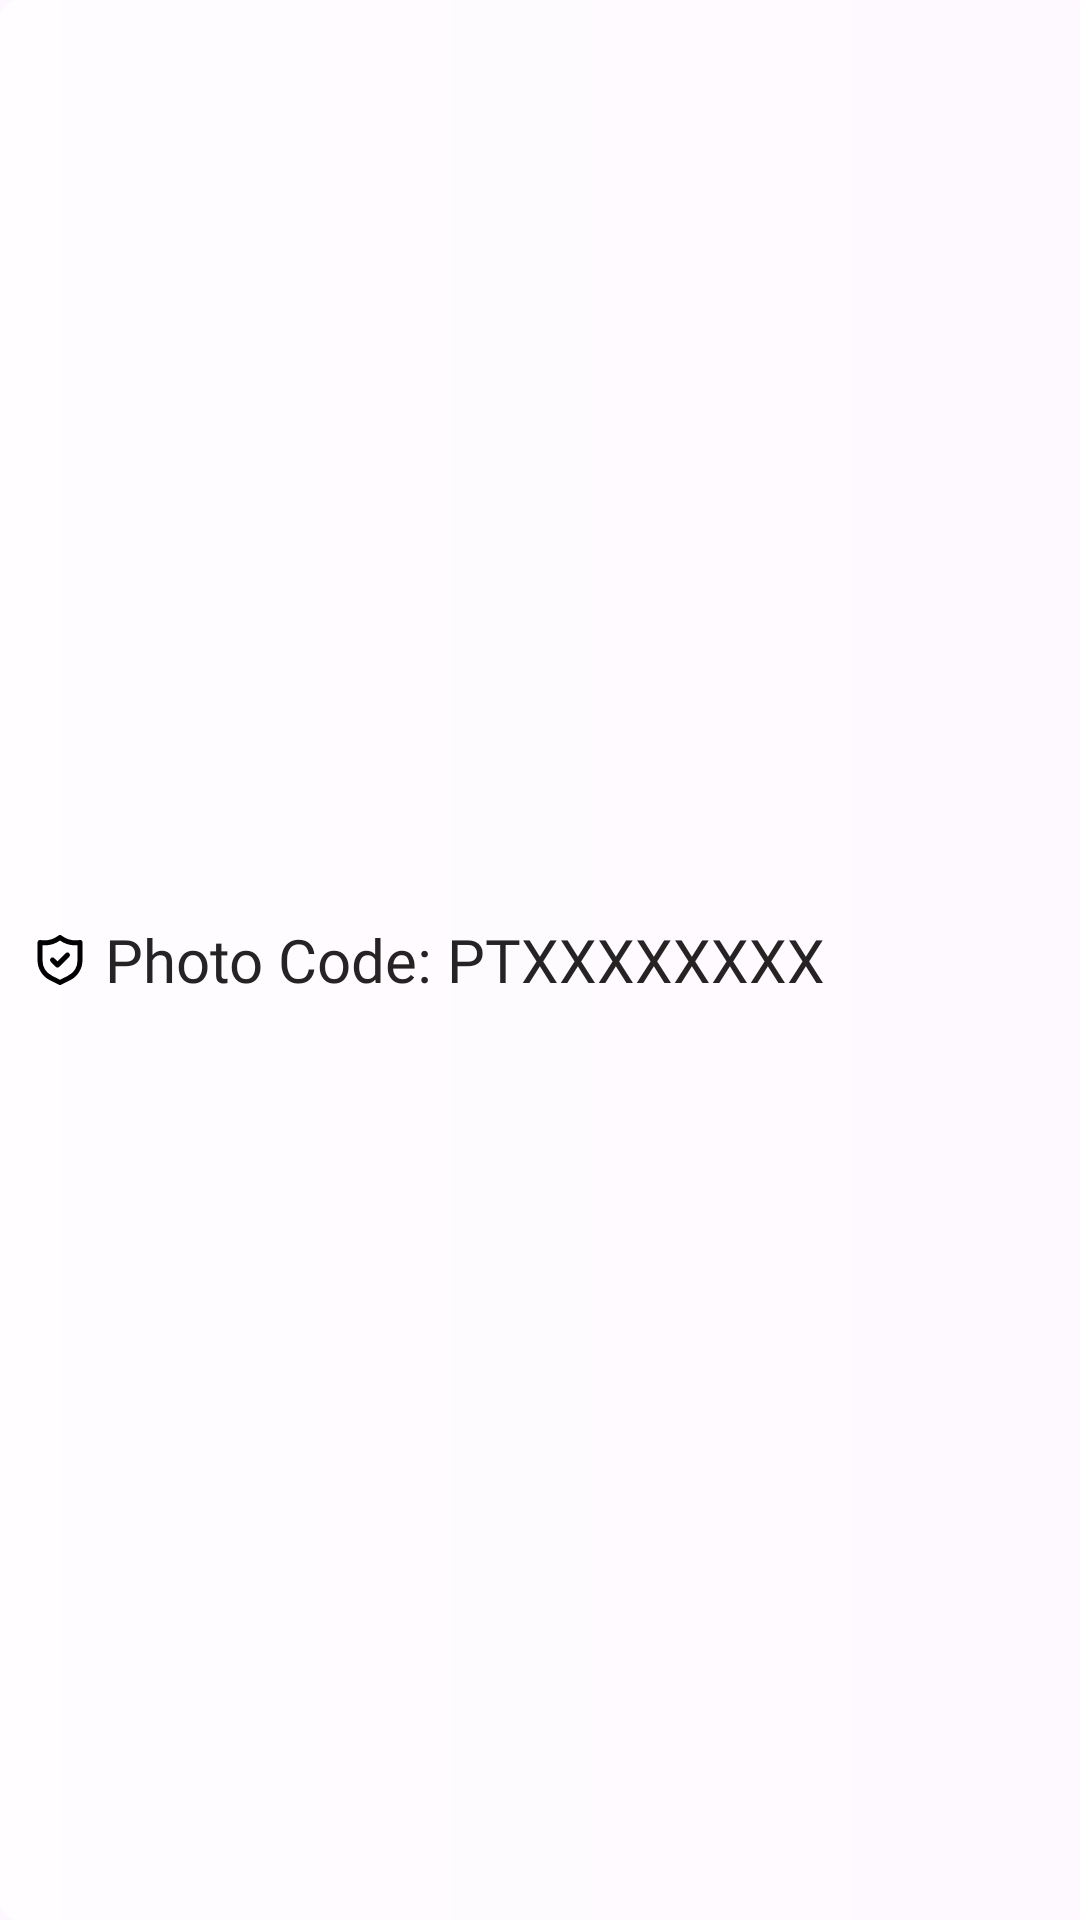

Locate icon controls on the screen. Image size 1080w x 1920h, boxes as Rect(x1, y1, x2, y2).
verified: Rect(37, 935, 83, 985)
